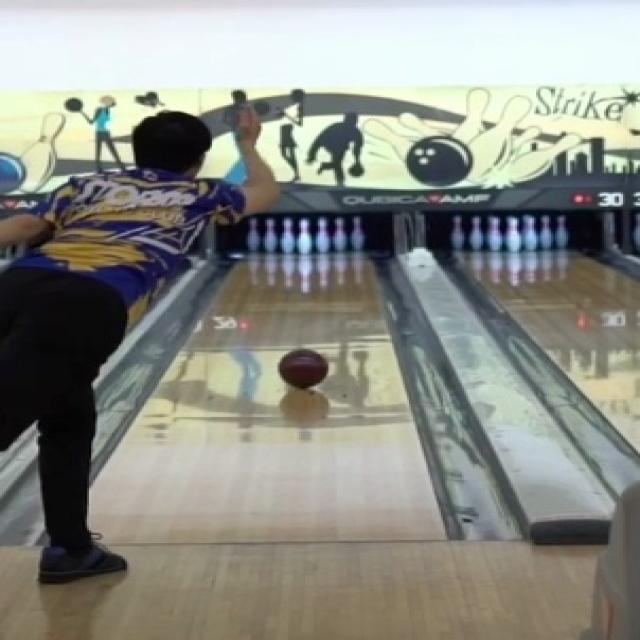alley: (91, 255, 443, 543)
balls: (278, 349, 326, 389)
bottle: (243, 215, 372, 258)
